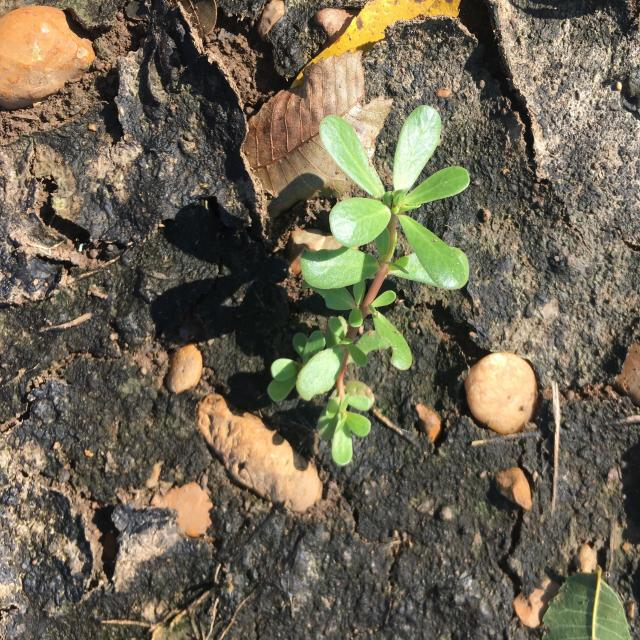Purslane: (267, 105, 470, 465)
